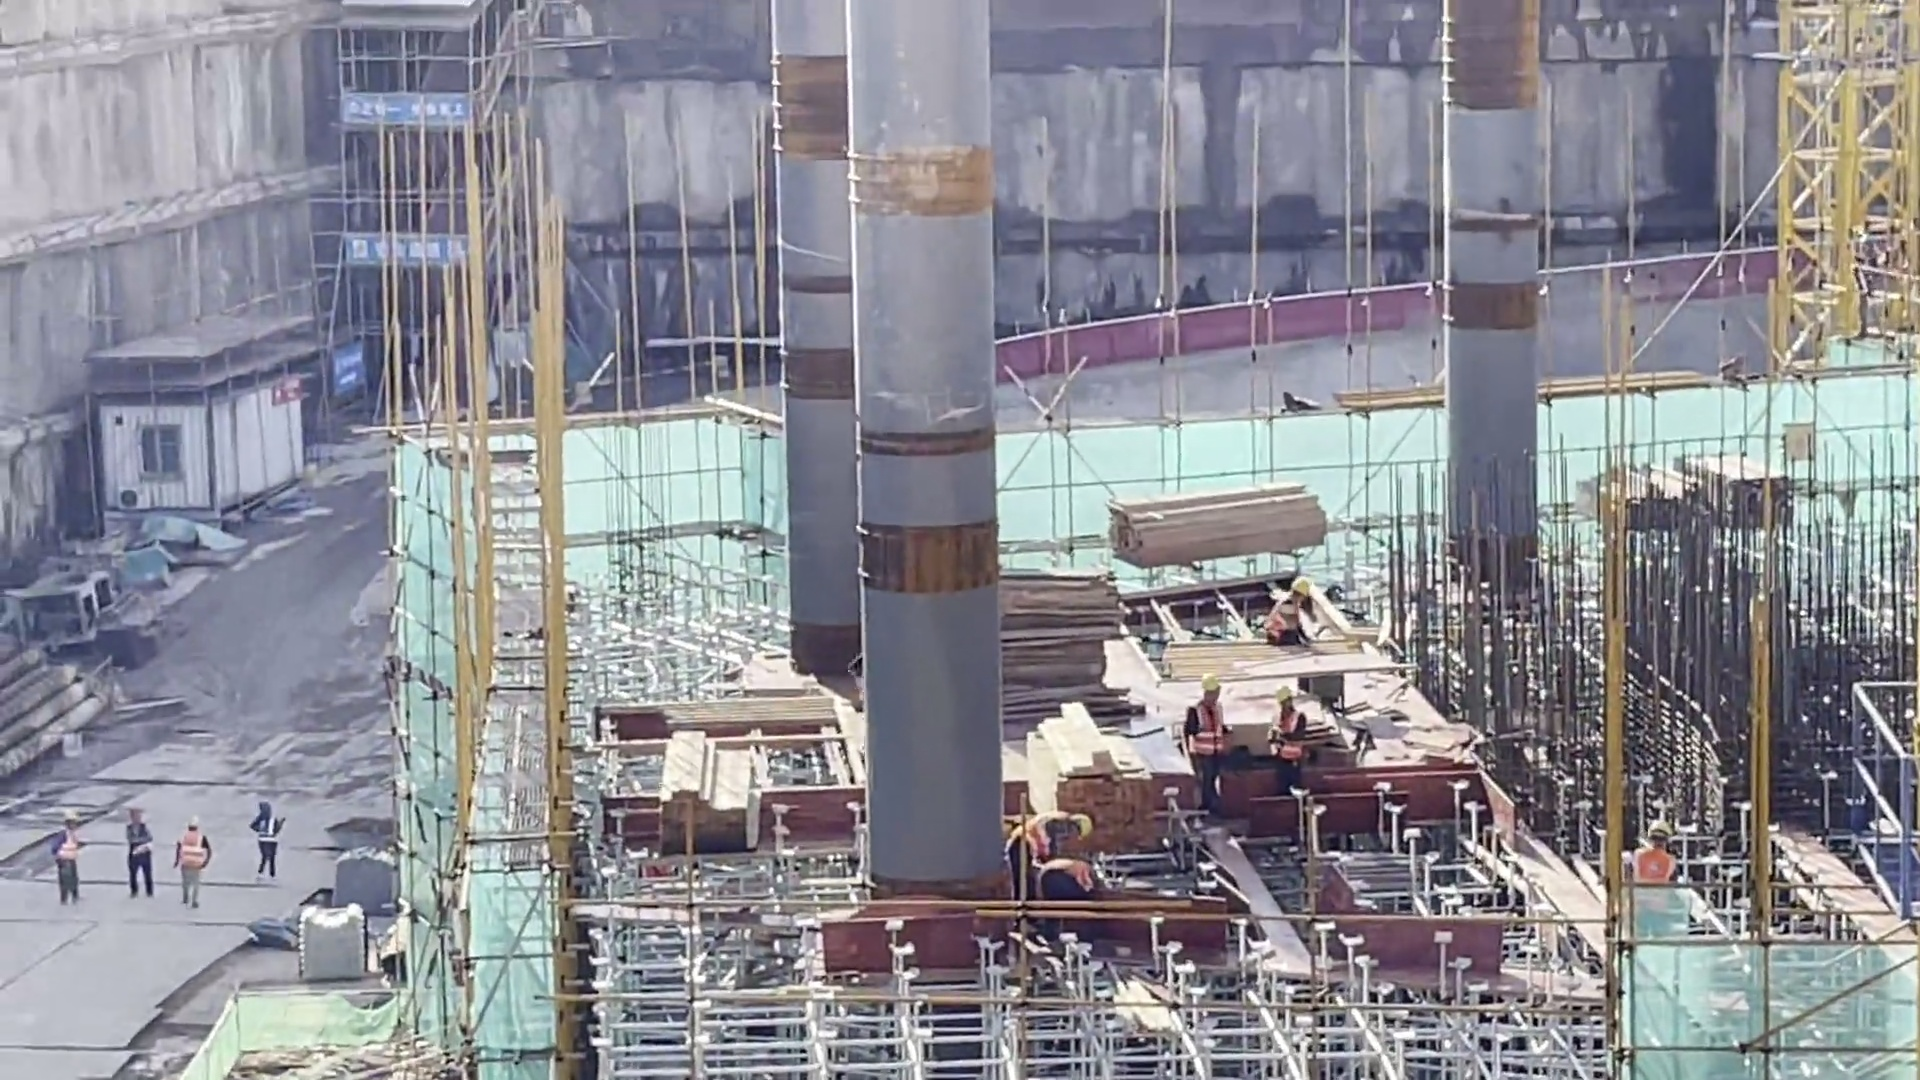cutter: (1227, 638, 1411, 709)
helmet: (1065, 813, 1096, 843), (1644, 817, 1672, 838), (1197, 668, 1221, 691), (1291, 577, 1311, 599), (1273, 686, 1292, 702)
person: (1011, 810, 1103, 906), (1181, 672, 1236, 811), (1263, 684, 1312, 792), (172, 812, 214, 906), (1265, 573, 1319, 645), (55, 808, 89, 902), (1039, 853, 1096, 907), (1631, 817, 1680, 880), (248, 800, 285, 879), (124, 807, 154, 898)
scaffold: (291, 892, 368, 979)
slogan: (332, 88, 472, 133), (342, 230, 469, 274)
vest: (1008, 811, 1067, 858), (1190, 704, 1229, 759), (1266, 715, 1302, 767), (1639, 851, 1678, 889), (174, 833, 202, 871), (57, 834, 81, 872), (254, 819, 276, 853)
wood: (1104, 479, 1334, 577), (1002, 576, 1128, 732), (1025, 696, 1152, 848), (656, 732, 765, 846)
